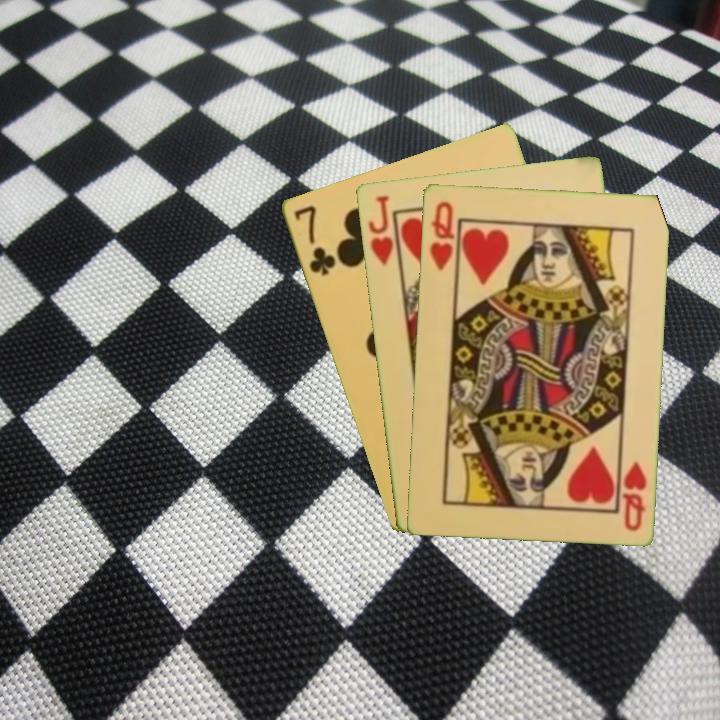7c: (290, 201, 338, 279)
Jh: (364, 191, 403, 273)
Qh: (618, 458, 650, 534), (426, 198, 457, 273)
